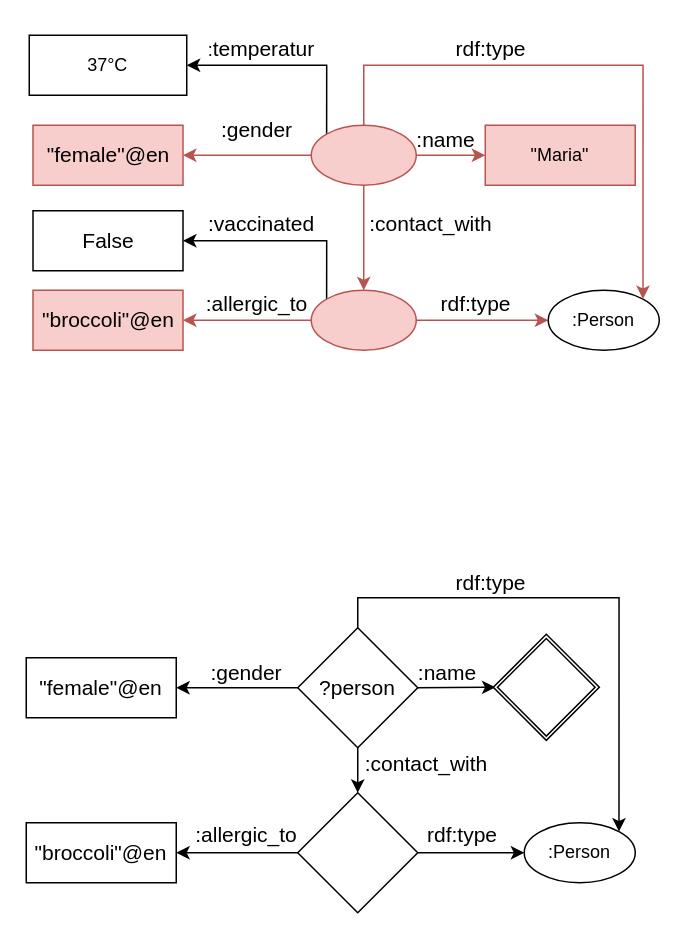
The diagram is 686 pixels wide and 939 high, and some of its shapes have lost their labels. The centre of each missing label's shape, as x and y in pixels:
":Maria" goes at point (363, 154).
":Max" goes at point (363, 319).
"?name" goes at point (545, 686).
"?person2" goes at point (357, 852).
